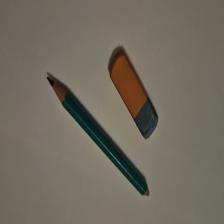eraser: (110, 52, 159, 141)
pencil: (48, 78, 151, 198)
